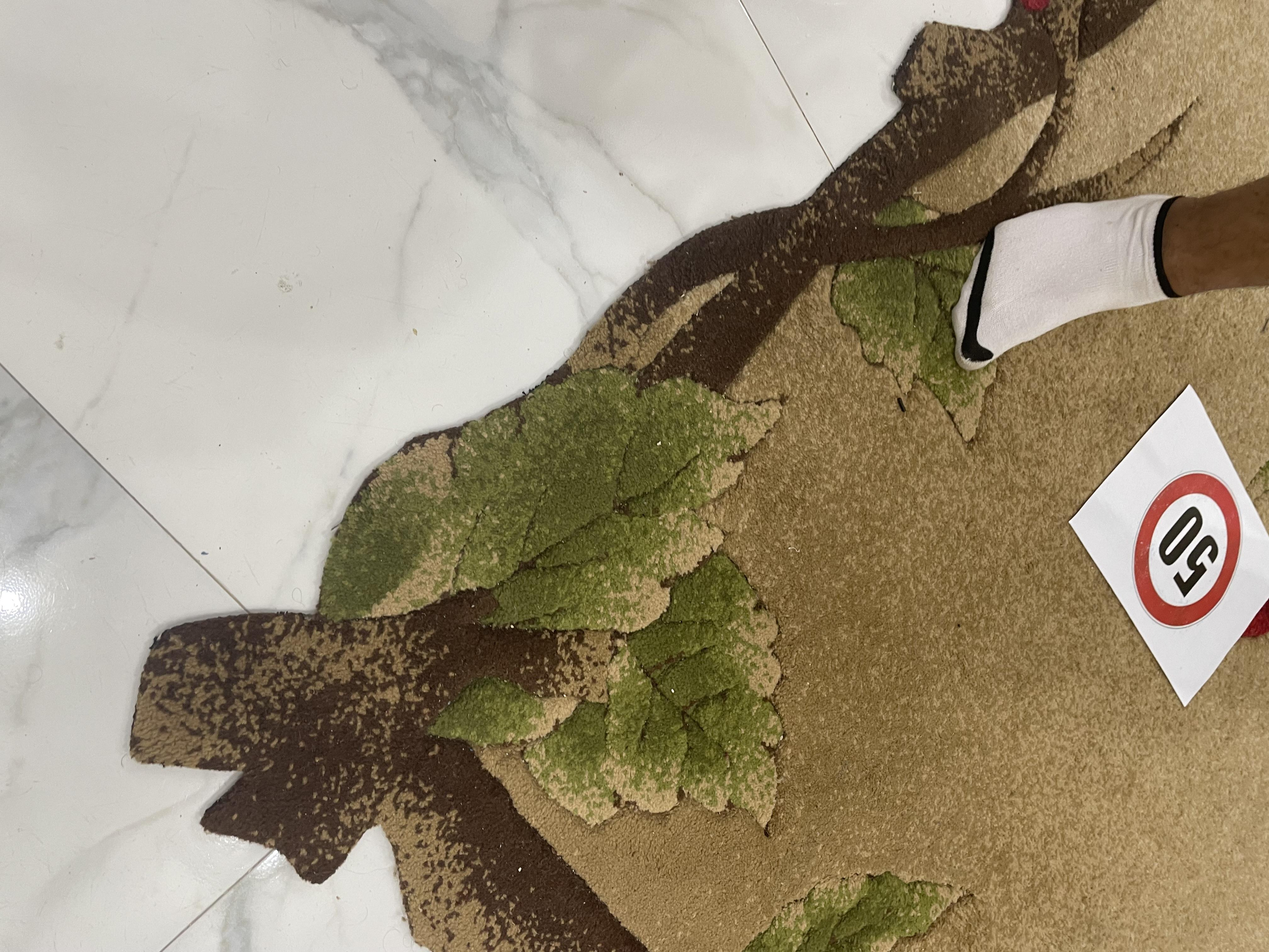50-Speed: (626, 18, 844, 102)
